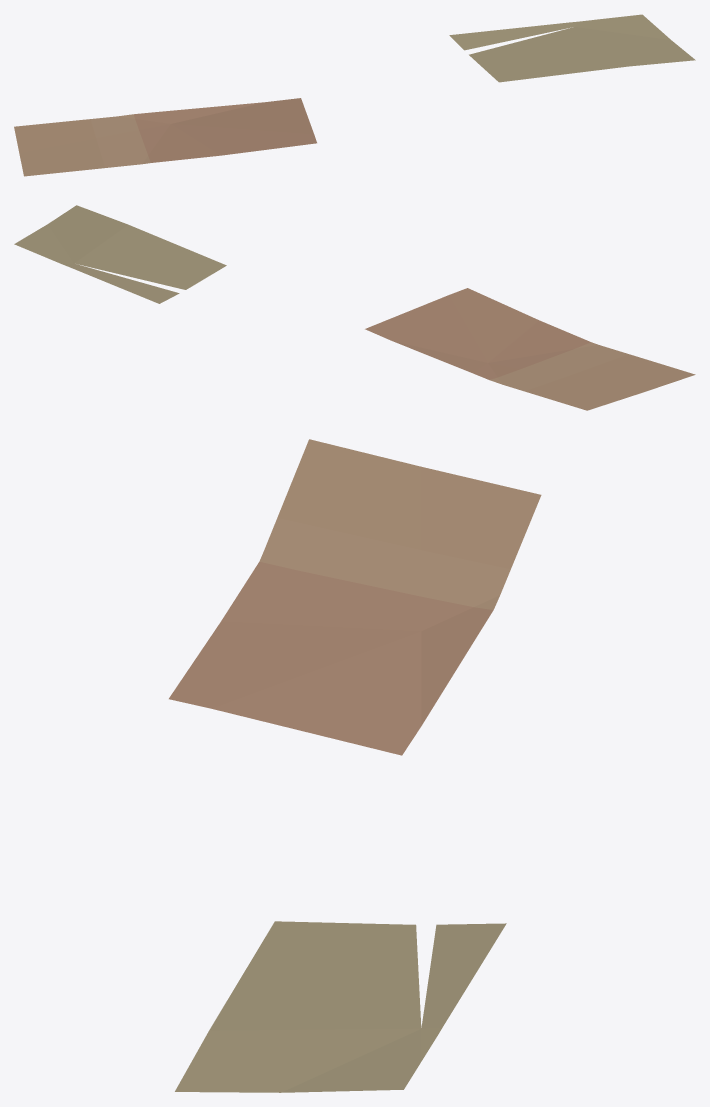
Rendered from farm_7_24_soil.glb.
The picture shows the model from 3 angles, top to bottom: view 1: azimuth 30°, elevation 25°; view 2: azimuth 150°, elevation 25°; view 3: azimuth 270°, elevation 25°; orthographic projection. The views are drawn at different scales.
Visible parts, largest first — view 1: geometry_0; view 2: geometry_0; view 3: geometry_0.
Part boxes in pixels (box(x1,y1,x2,y2)): geometry_0: box(14, 14, 695, 176); geometry_0: box(14, 205, 695, 410); geometry_0: box(169, 439, 541, 1092).
Size of the model in its own units: 254 by 5.64 by 63.96.
